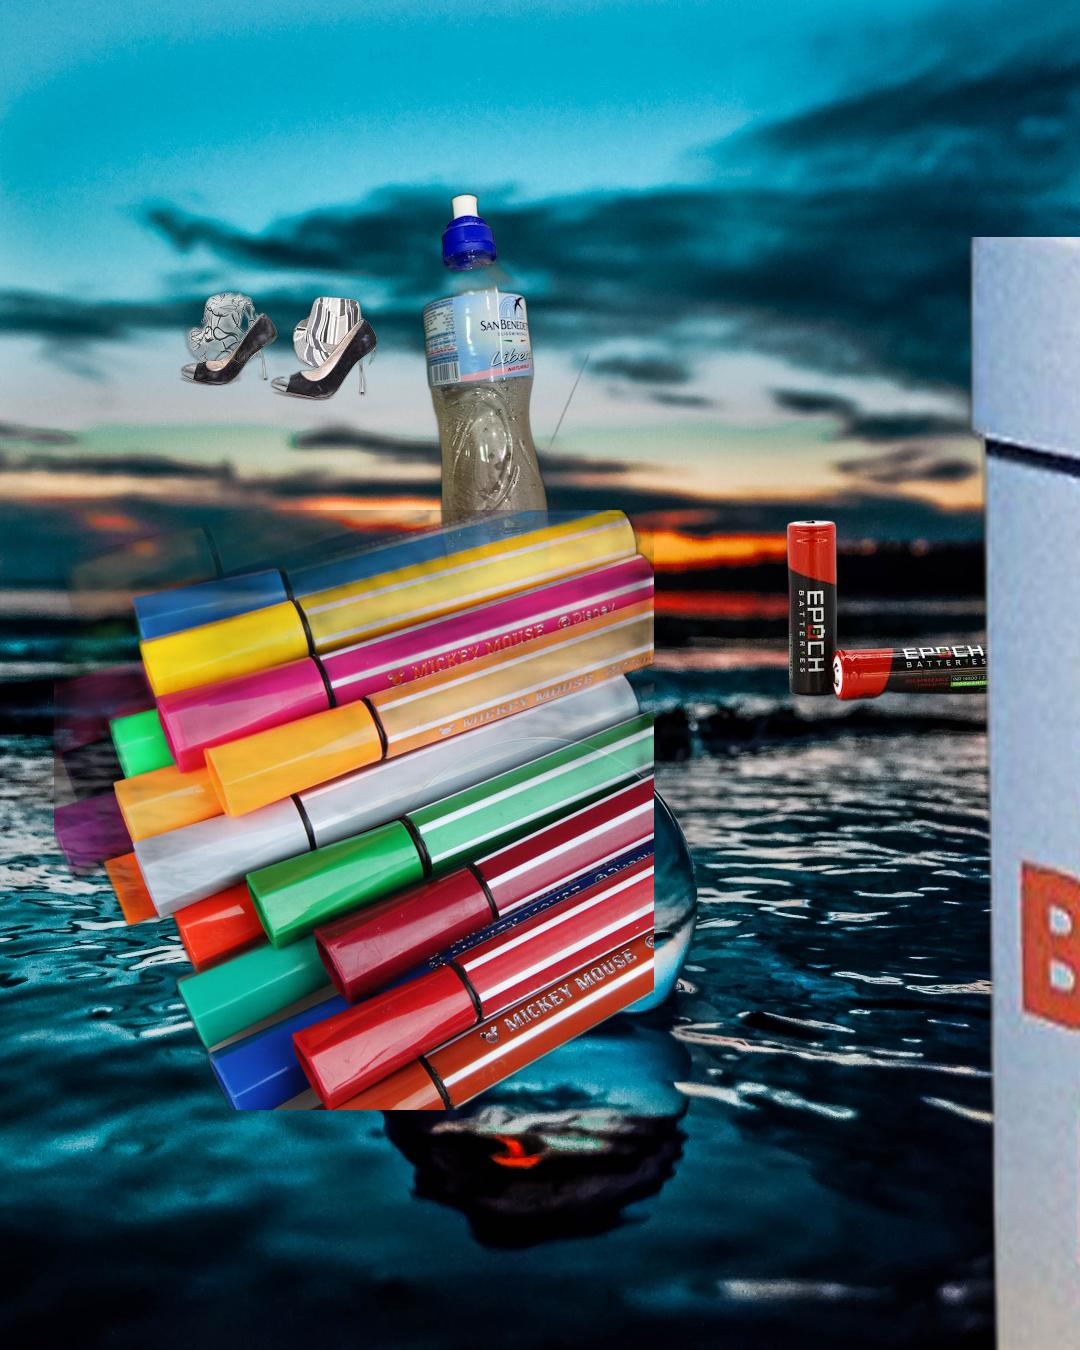battery: (785, 518, 1009, 704)
penholder: (54, 510, 654, 1110)
plastic-bottles: (419, 188, 593, 604)
shoes: (177, 284, 379, 403)
trashbox-cardboard: (959, 237, 1080, 1350)
